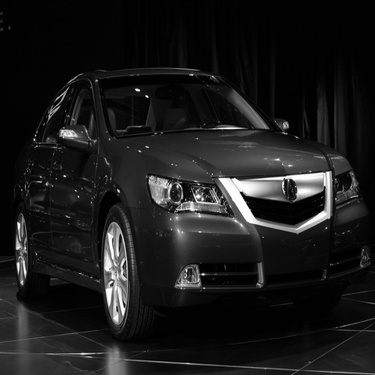car: (1, 57, 357, 344)
